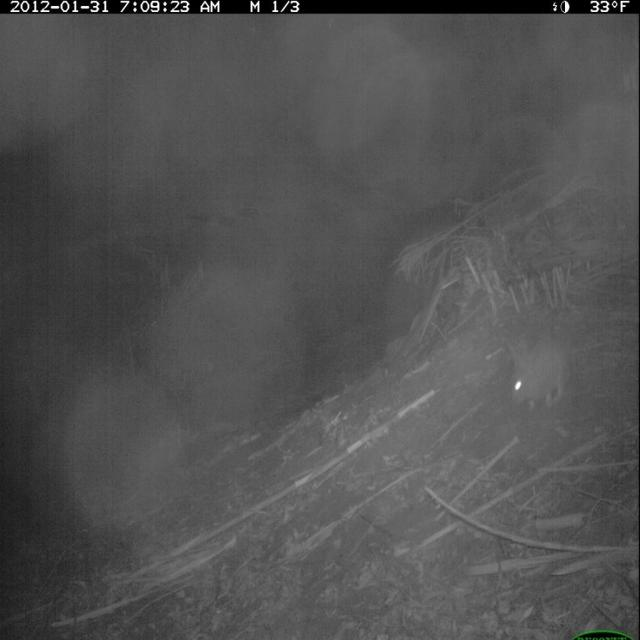rabbit: (498, 325, 576, 419)
